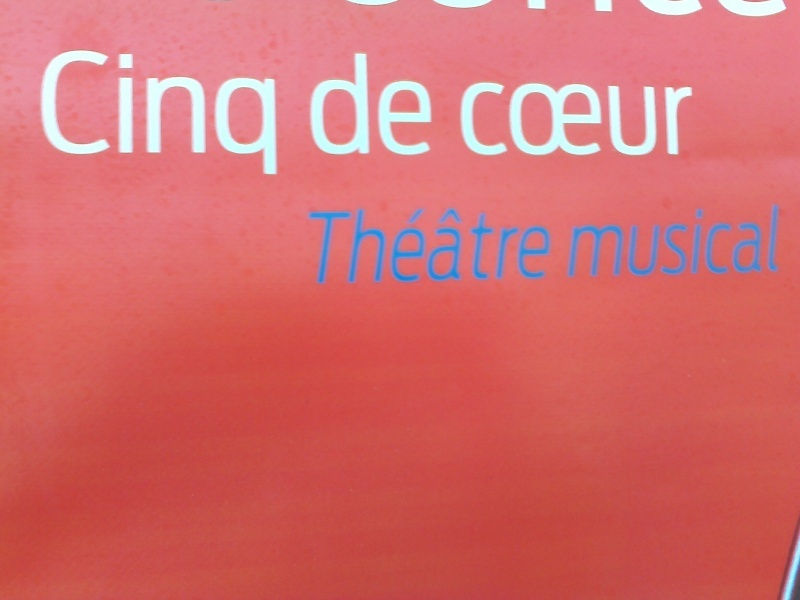text: (49, 44, 64, 178), (65, 44, 80, 178), (81, 44, 96, 178), (97, 44, 112, 178), (113, 44, 128, 178), (129, 44, 144, 178), (145, 44, 160, 178), (161, 44, 176, 178), (177, 44, 192, 178), (193, 44, 208, 178), (209, 44, 224, 178), (225, 44, 240, 178), (241, 44, 256, 178), (257, 44, 272, 178), (417, 50, 433, 159), (321, 50, 336, 159), (337, 50, 352, 159), (353, 50, 368, 159), (369, 50, 384, 159), (385, 50, 400, 159), (401, 50, 416, 159), (36, 44, 48, 178), (308, 50, 320, 159), (305, 207, 320, 288), (321, 207, 336, 288), (337, 207, 352, 288), (353, 207, 368, 288), (369, 207, 384, 288), (385, 207, 400, 288), (401, 207, 416, 288), (417, 207, 432, 288), (433, 207, 448, 288), (449, 207, 464, 288), (465, 207, 480, 288), (481, 207, 496, 288), (497, 207, 512, 288), (513, 207, 528, 288), (529, 207, 544, 288), (577, 201, 592, 281), (593, 201, 608, 281), (609, 201, 624, 281), (625, 201, 640, 281), (641, 201, 656, 281), (657, 201, 672, 281), (673, 201, 688, 281), (689, 201, 704, 281), (705, 201, 720, 281), (721, 201, 736, 281), (737, 201, 752, 281), (753, 201, 768, 281), (769, 201, 784, 281), (465, 80, 480, 159), (481, 80, 496, 159), (497, 80, 512, 159), (513, 80, 528, 159), (529, 80, 544, 159), (545, 80, 560, 159), (561, 80, 576, 159), (577, 80, 592, 159), (593, 80, 608, 159), (609, 80, 624, 159), (625, 80, 640, 159), (641, 80, 656, 159), (657, 80, 672, 159), (673, 80, 688, 159), (545, 207, 558, 288), (273, 44, 280, 178), (689, 80, 698, 159), (572, 201, 576, 281), (463, 80, 464, 159)
